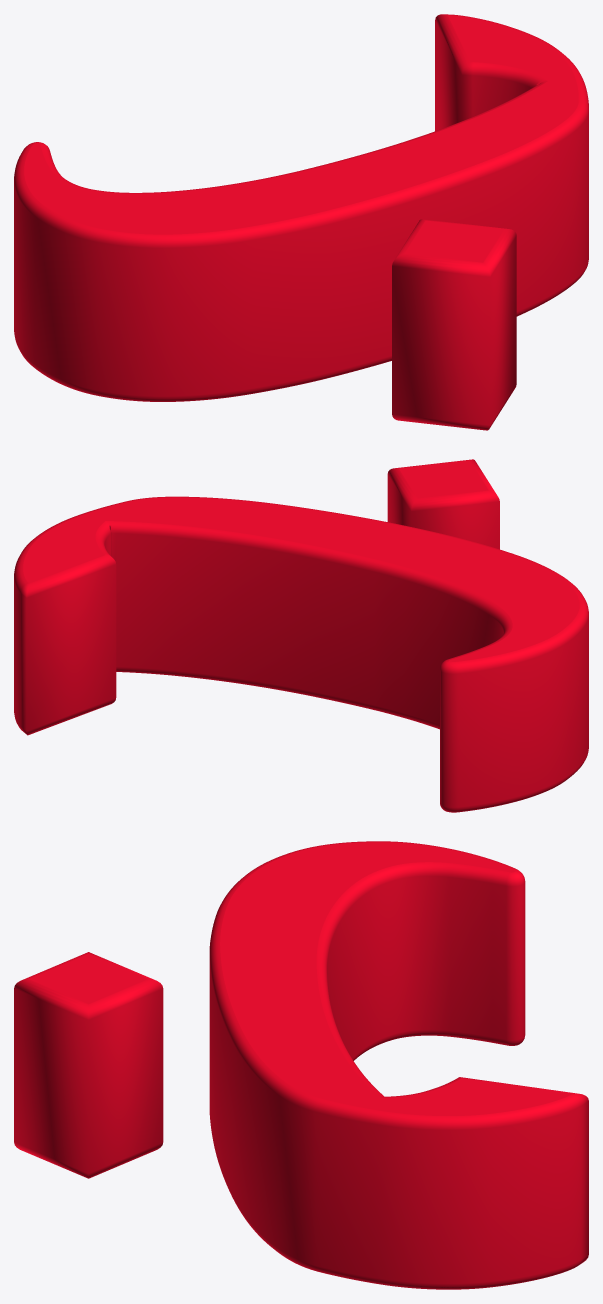
3 views of the same model, one above another, from view 1: azimuth 30°, elevation 25°; view 2: azimuth 150°, elevation 25°; view 3: azimuth 270°, elevation 25° (orthographic). The views are drawn at different scales.
Parts seen in each view (by area): view 1: Text.157; view 2: Text.157; view 3: Text.157.
Part boxes in pixels (x1,y1,x2,y2): Text.157: (14, 14, 588, 430); Text.157: (14, 459, 588, 812); Text.157: (14, 841, 588, 1289).
Size of the model in its own units: 63.25 by 18 by 54.34.
